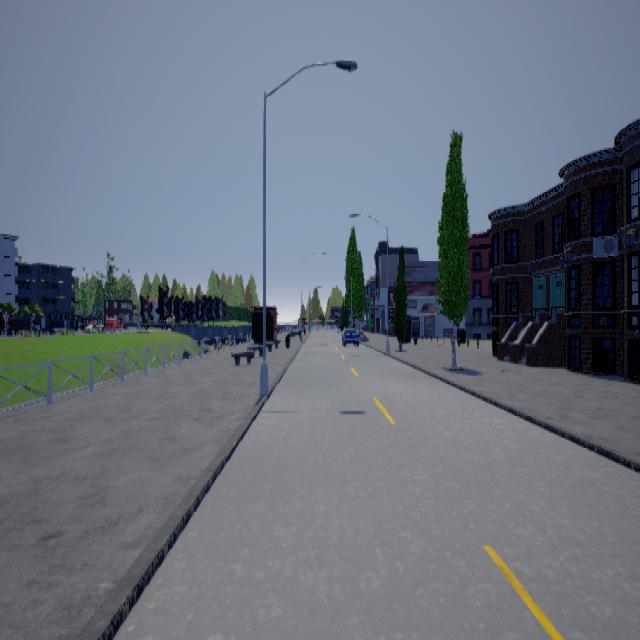vehicle: (343, 325, 361, 345)
